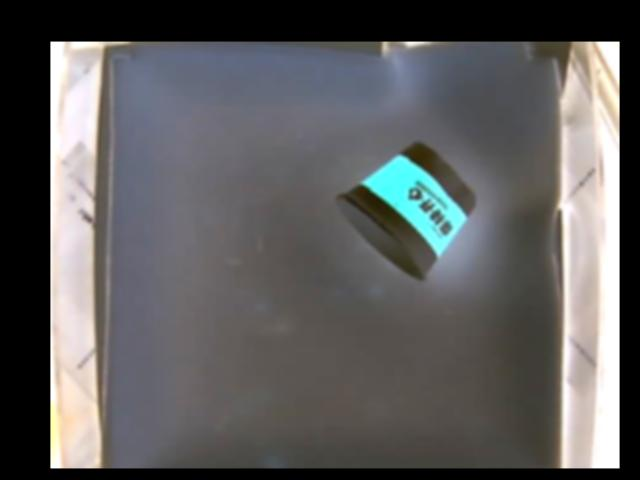Cup: (334, 142, 479, 277)
